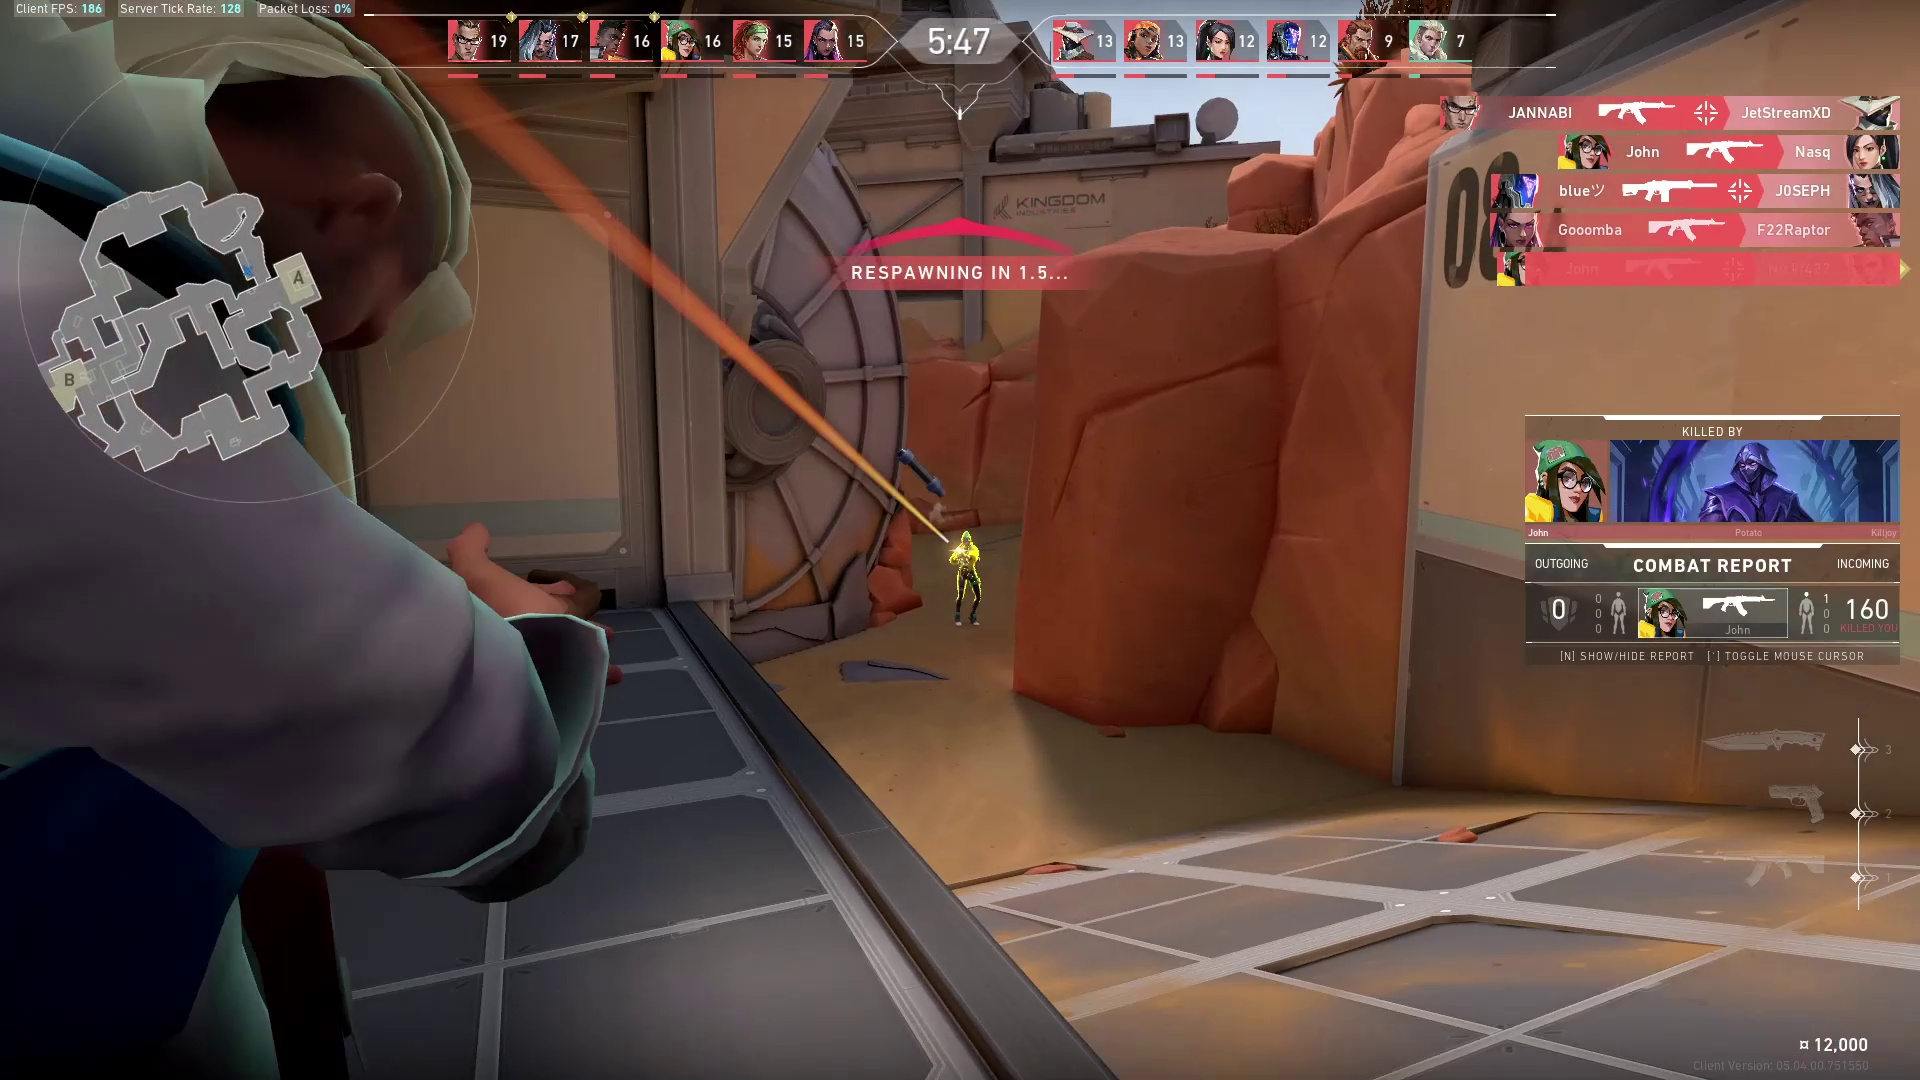enemy_body: (949, 544, 985, 630)
enemy_head: (960, 529, 974, 550)
